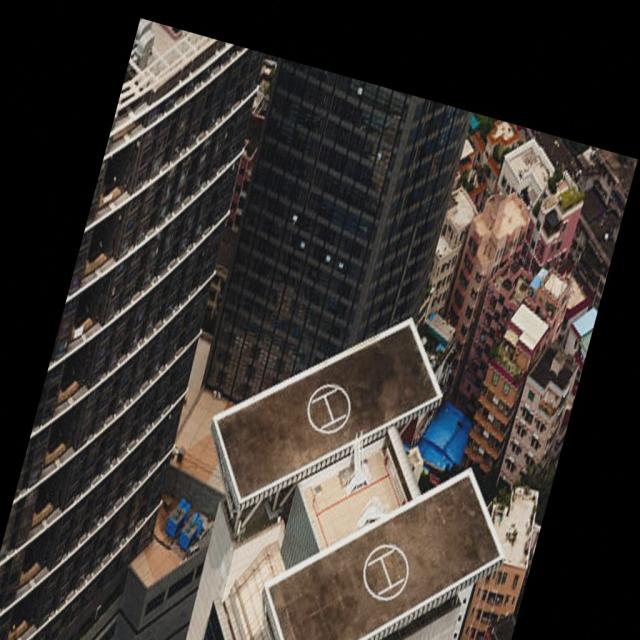helipad: (360, 542, 412, 602), (304, 381, 352, 437)
